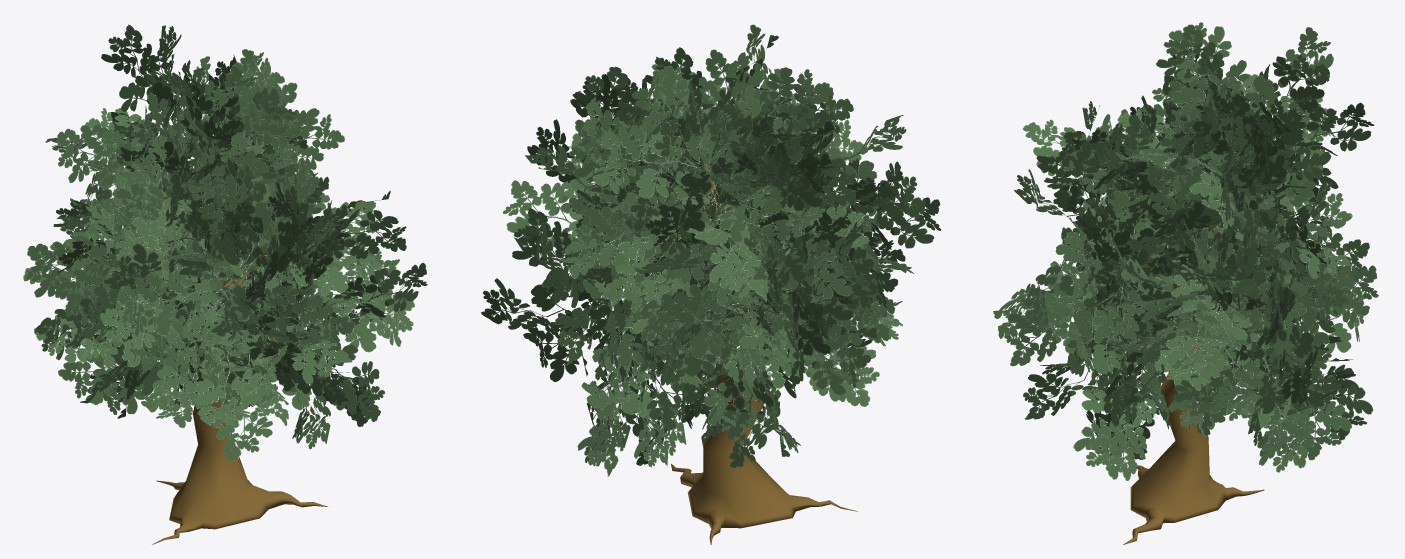
The model's file is tree3.fbx.
3 renders of one model, left to right at view 1: azimuth 30°, elevation 25°; view 2: azimuth 150°, elevation 25°; view 3: azimuth 270°, elevation 25°, orthographic. The views are drawn at different scales.
Visible parts, largest first — view 1: Cube, Cube|樹枝|Dupli|113, Cube|樹枝|Dupli|108, Cube|樹枝|Dupli|18, Cube|樹枝|Dupli|245, Cube|樹枝|Dupli|51, Cube|樹枝|Dupli|17, Cube|樹枝|Dupli|111, Cube|樹枝|Dupli|249, Cube|樹枝|Dupli|169, Cube|樹枝|Dupli|239, Cube|樹枝|Dupli|173 (+81 smaller); view 2: Cube, Cube|樹枝|Dupli|54, Cube|樹枝|Dupli|215, Cube|樹枝|Dupli|24, Cube|樹枝|Dupli|35, Cube|樹枝|Dupli|46, Cube|樹枝|Dupli|226, Cube|樹枝|Dupli|200, Cube|樹枝|Dupli|190, Cube|樹枝|Dupli|184, Cube|樹枝|Dupli|107, Cube|樹枝|Dupli|21 (+82 smaller); view 3: Cube, Cube|樹枝|Dupli|36, Cube|樹枝|Dupli|35, Cube|樹枝|Dupli|144, Cube|樹枝|Dupli|167, Cube|樹枝|Dupli|143, Cube|樹枝|Dupli|111, Cube|樹枝|Dupli|247, Cube|樹枝|Dupli|187, Cube|樹枝|Dupli|180, Cube|樹枝|Dupli|89, Cube|樹枝|Dupli|249 (+86 smaller).
Part boxes in pixels (x1,y1,x2,y2): Cube: (152, 167, 328, 544); Cube|樹枝|Dupli|113: (221, 285, 354, 357); Cube|樹枝|Dupli|108: (116, 270, 214, 337); Cube|樹枝|Dupli|18: (274, 209, 406, 258); Cube|樹枝|Dupli|245: (300, 262, 427, 325); Cube|樹枝|Dupli|51: (101, 24, 173, 133); Cube|樹枝|Dupli|17: (176, 246, 278, 343); Cube|樹枝|Dupli|111: (235, 182, 308, 268); Cube|樹枝|Dupli|249: (296, 323, 384, 422); Cube|樹枝|Dupli|169: (195, 347, 262, 425); Cube|樹枝|Dupli|239: (316, 288, 414, 352); Cube|樹枝|Dupli|173: (141, 335, 244, 411); Cube: (613, 163, 857, 544); Cube|樹枝|Dupli|54: (708, 67, 833, 164); Cube|樹枝|Dupli|215: (650, 289, 762, 367); Cube|樹枝|Dupli|24: (600, 124, 699, 200); Cube|樹枝|Dupli|35: (631, 65, 712, 174); Cube|樹枝|Dupli|46: (603, 216, 713, 312); Cube|樹枝|Dupli|226: (722, 334, 774, 468); Cube|樹枝|Dupli|200: (748, 307, 870, 395); Cube|樹枝|Dupli|190: (481, 278, 606, 334); Cube|樹枝|Dupli|184: (577, 331, 631, 476); Cube|樹枝|Dupli|107: (824, 160, 925, 232); Cube|樹枝|Dupli|21: (682, 167, 763, 295); Cube: (1107, 213, 1301, 544); Cube|樹枝|Dupli|36: (1156, 24, 1240, 131); Cube|樹枝|Dupli|35: (1233, 54, 1329, 137); Cube|樹枝|Dupli|144: (1188, 321, 1263, 420); Cube|樹枝|Dupli|167: (1004, 270, 1105, 366); Cube|樹枝|Dupli|143: (1147, 161, 1235, 263); Cube|樹枝|Dupli|111: (1036, 141, 1136, 214); Cube|樹枝|Dupli|247: (1089, 359, 1156, 480); Cube|樹枝|Dupli|187: (1273, 344, 1351, 460); Cube|樹枝|Dupli|180: (1238, 346, 1308, 472); Cube|樹枝|Dupli|89: (1256, 239, 1348, 326); Cube|樹枝|Dupli|249: (1023, 331, 1128, 419).
Size of the model in its own units: 17.03 by 20.74 by 16.18.
2 materials, 1 textured.
